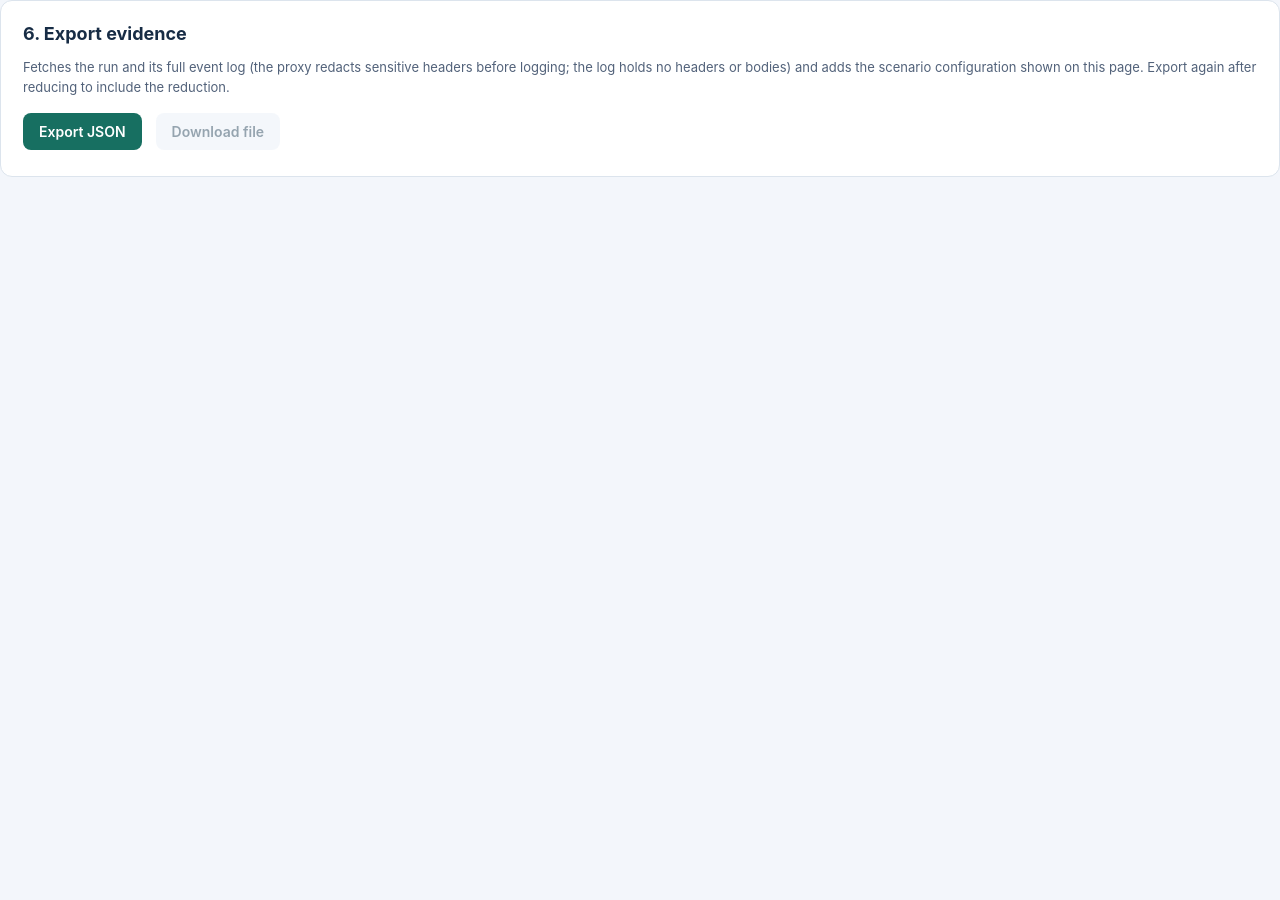
Test: <ExportPanel/> › downloads the document under a run-specific file name
The image size is (1280, 900).
Later steps or results of the test are not shown.
Click the button "Export JSON" at (82, 132), box [23,113,142,150]
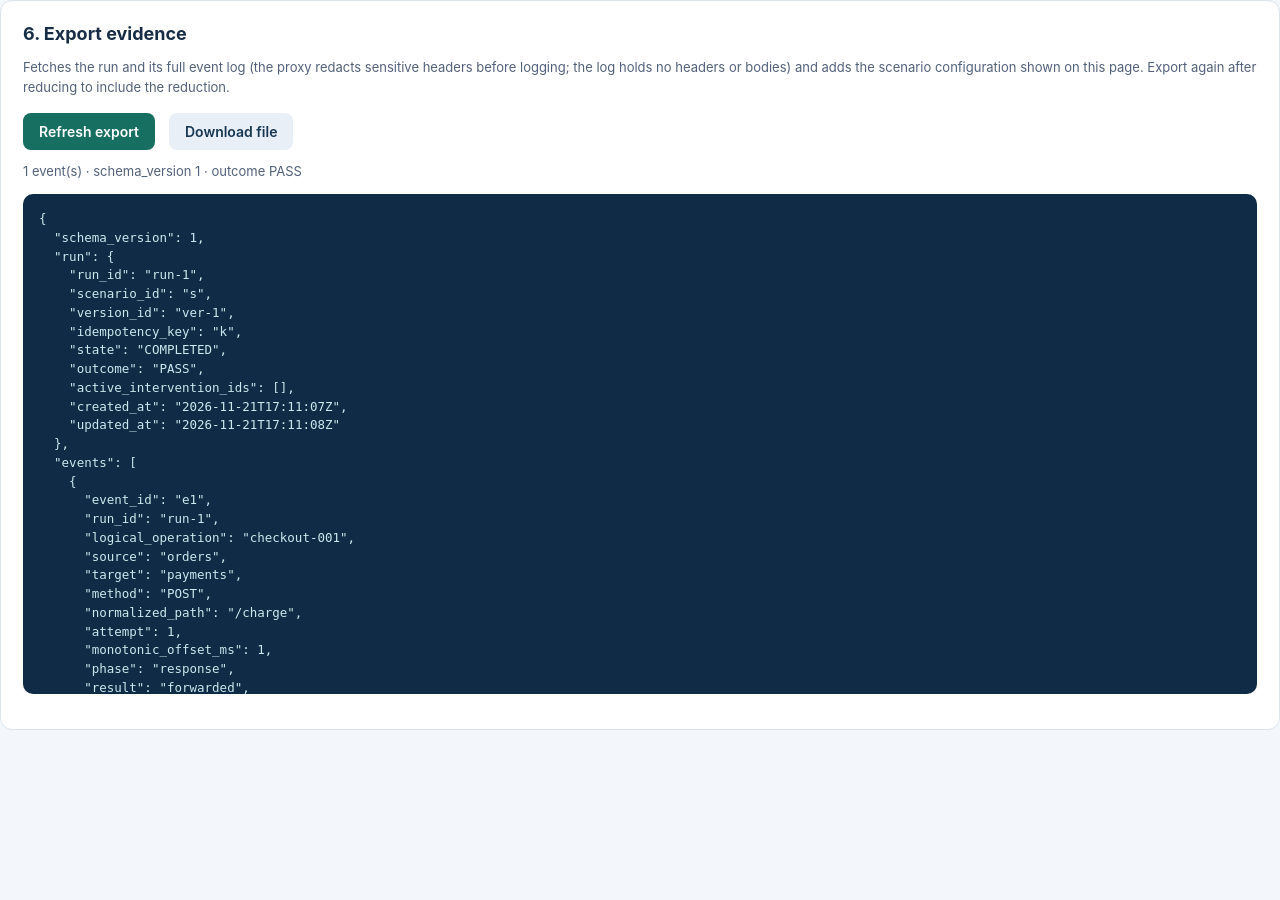
Expected: the text named "Export JSON preview" is shown, [23,194,1257,694]
